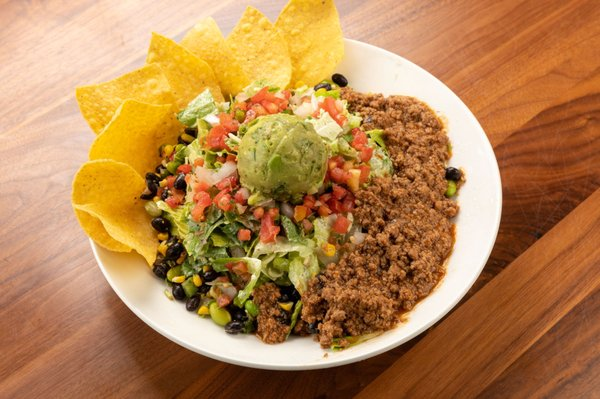sushi: (55, 28, 502, 375)
